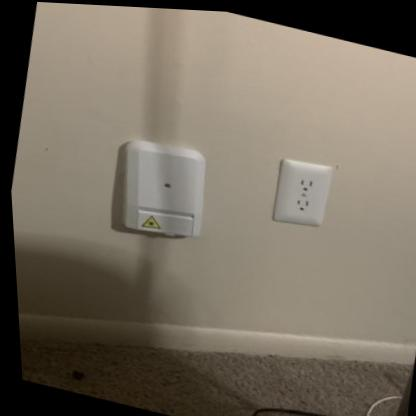OUTLET: (269, 153, 337, 231)
